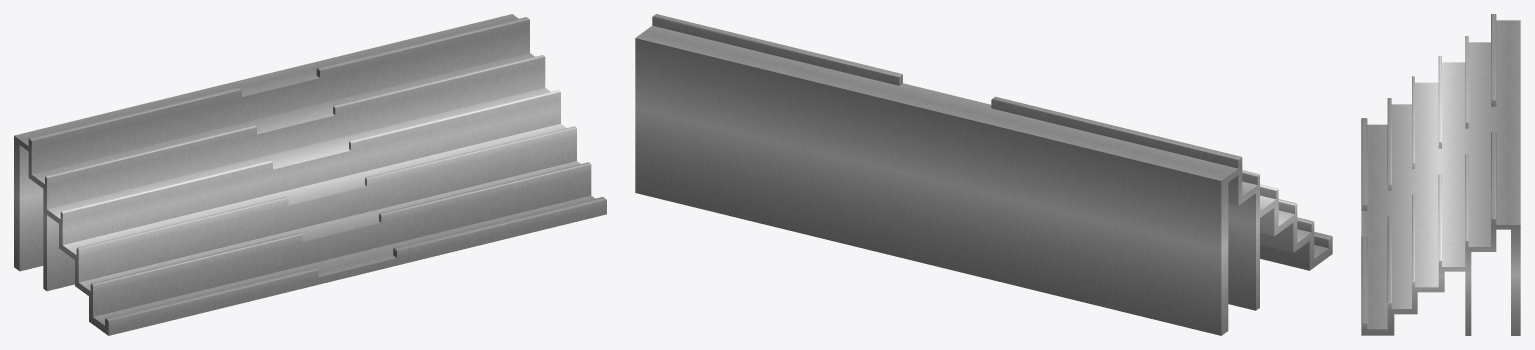
File: bleachers-textured.fbx
3 renders of one model, left to right at view 1: azimuth 30°, elevation 25°; view 2: azimuth 150°, elevation 25°; view 3: azimuth 270°, elevation 25°, orthographic. The views are drawn at different scales.
Parts seen in each view (by area): view 1: Cube; view 2: Cube; view 3: Cube.
Part boxes in pixels (left/top/right/bottom): Cube: left=14, top=14, right=606, bottom=335; Cube: left=635, top=14, right=1332, bottom=335; Cube: left=1361, top=14, right=1520, bottom=335.
Bounding box in the file's own units: 13.73 × 3.68 × 4.51.
Materials: 1 (1 with a texture image).
